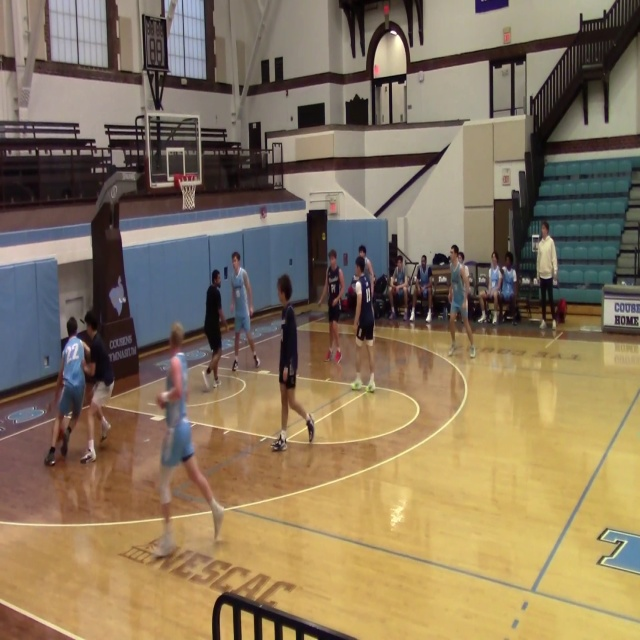Basketball: (167, 353, 189, 400), (346, 282, 358, 308), (156, 391, 169, 409)
